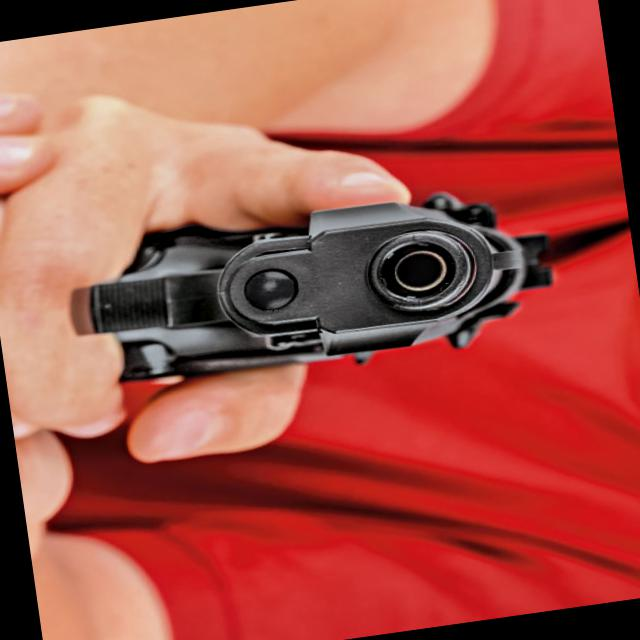handgun: (58, 157, 602, 409)
